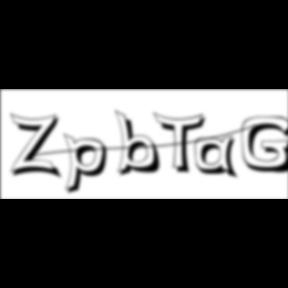T: (154, 112, 212, 176)
Z: (11, 112, 66, 181)
a: (195, 135, 243, 182)
b: (114, 109, 168, 179)
p: (64, 132, 114, 198)
